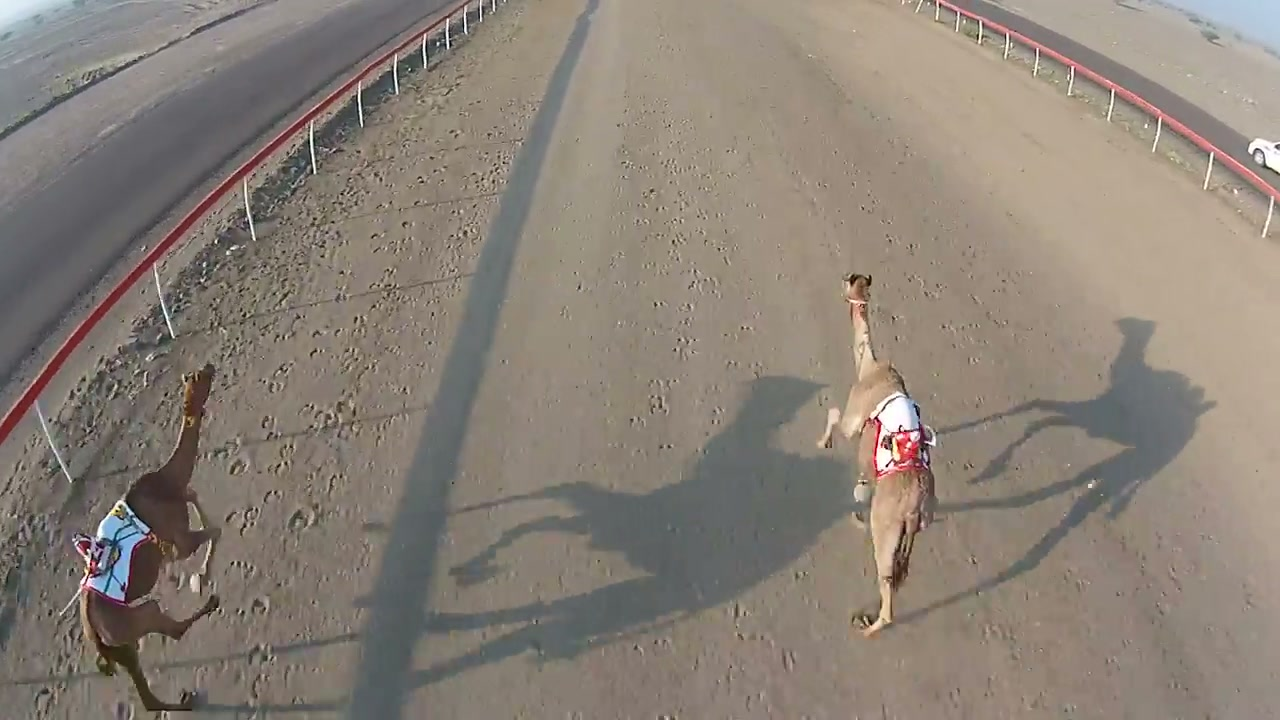animal_foot_print: (138, 134, 415, 682)
